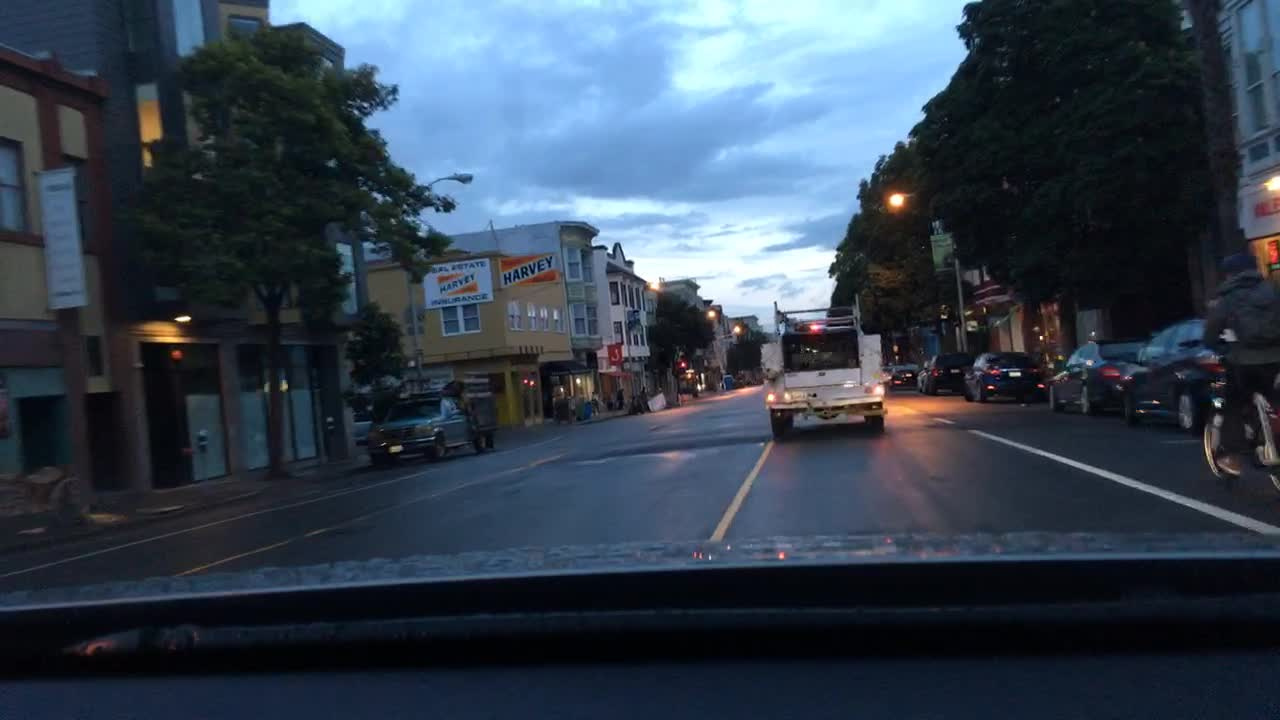bike: (1173, 336, 1279, 490)
car: (759, 291, 885, 441), (1118, 317, 1229, 435), (364, 387, 501, 469), (1046, 339, 1151, 420), (963, 348, 1046, 405), (915, 348, 975, 397), (884, 361, 923, 390)
person: (588, 388, 602, 415)
rider: (1202, 249, 1279, 477)
traffic light: (674, 358, 690, 371)
